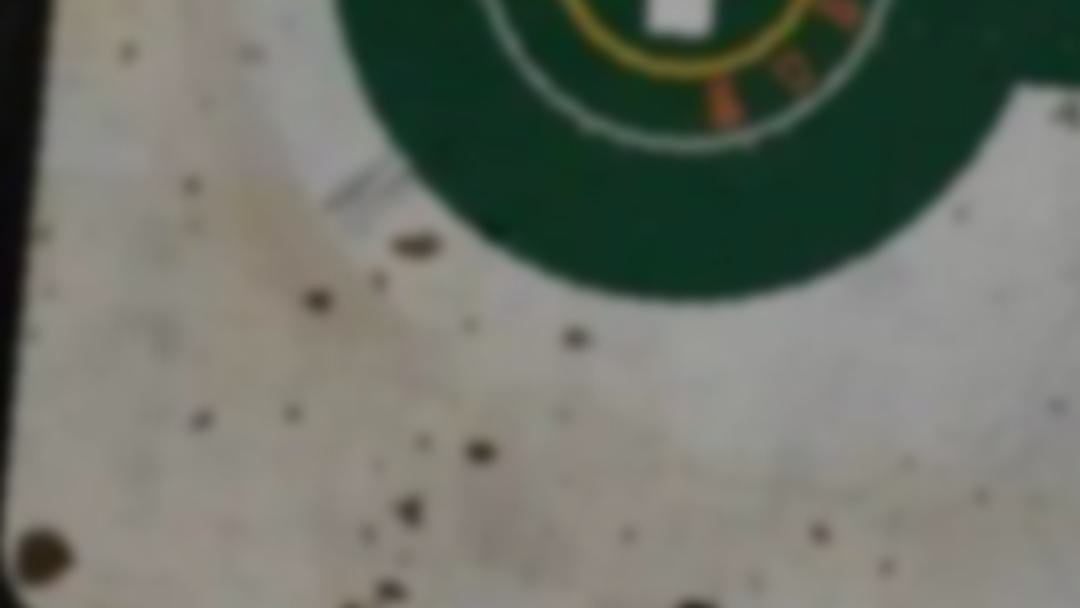Apron: (547, 1, 819, 90)
